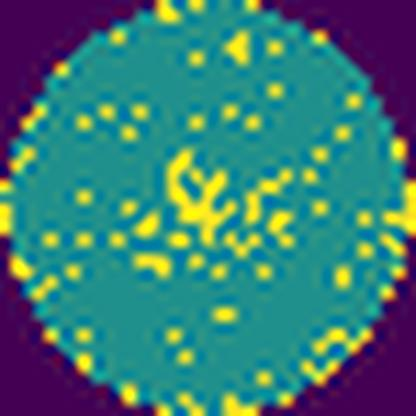Center: (162, 144, 241, 251)
